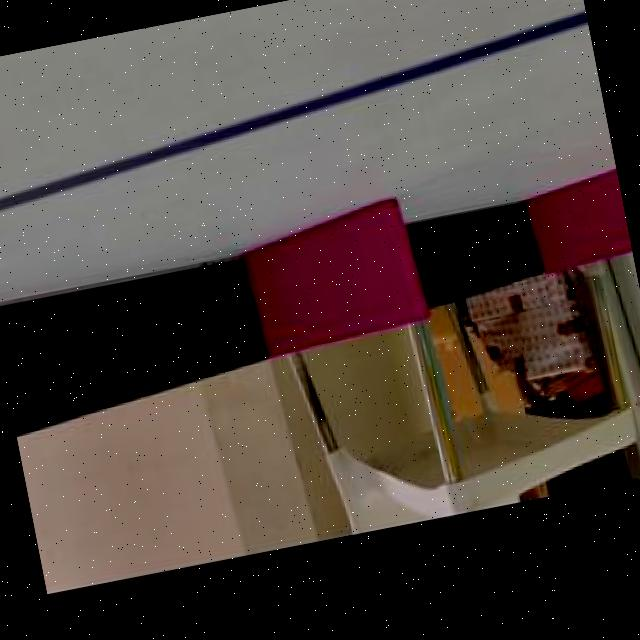xparking: (252, 200, 419, 348), (532, 178, 633, 268)
